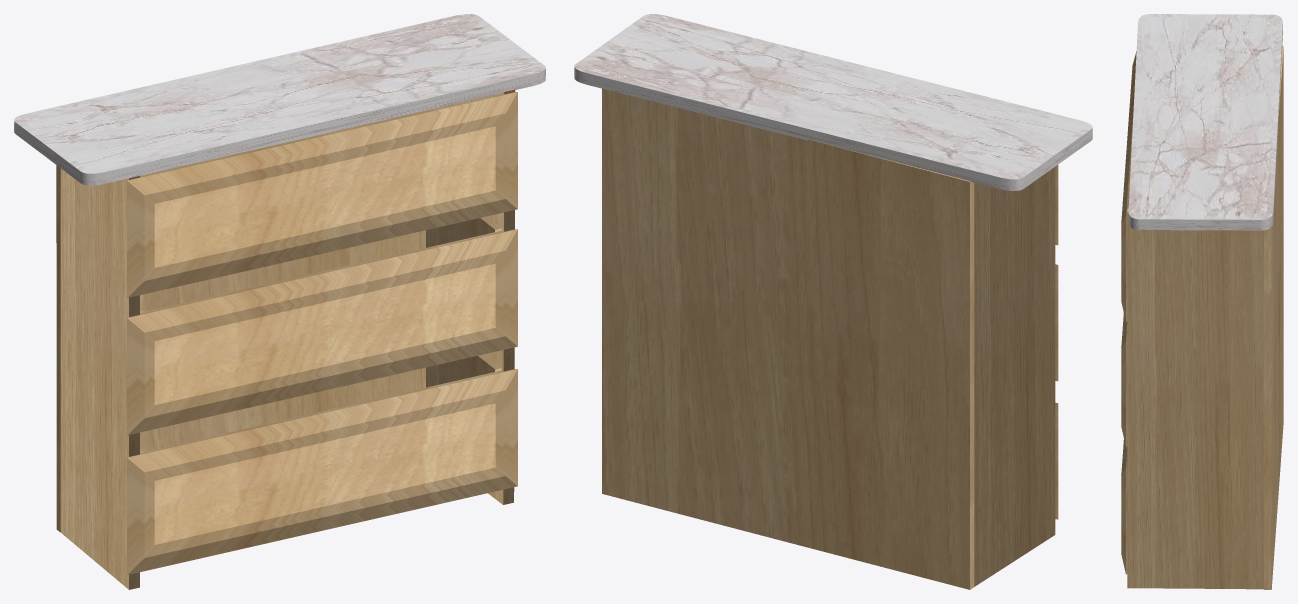
File: cabinet_small_01.FBX
3 renders of one model, left to right at view 1: azimuth 30°, elevation 25°; view 2: azimuth 150°, elevation 25°; view 3: azimuth 270°, elevation 25°, orthographic. The views are drawn at different scales.
Parts seen in each view (by area): view 1: Box001, Box004; view 2: Box001, Box004; view 3: Box001, Box004.
Part boxes in pixels (left/top/right/bottom): Box001: left=56, top=89, right=517, bottom=589; Box004: left=14, top=14, right=545, bottom=185; Box001: left=602, top=88, right=1058, bottom=589; Box004: left=574, top=14, right=1092, bottom=190; Box001: left=1121, top=46, right=1283, bottom=589; Box004: left=1128, top=14, right=1282, bottom=230.
Size of the model in its own units: 80.15 by 70.78 by 26.92.
2 materials, 2 textured.
